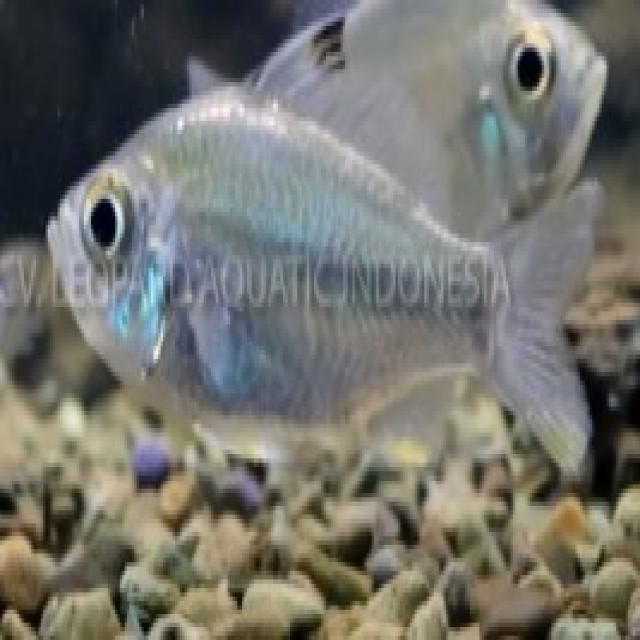Glass-Perchlet: (35, 38, 601, 514)
